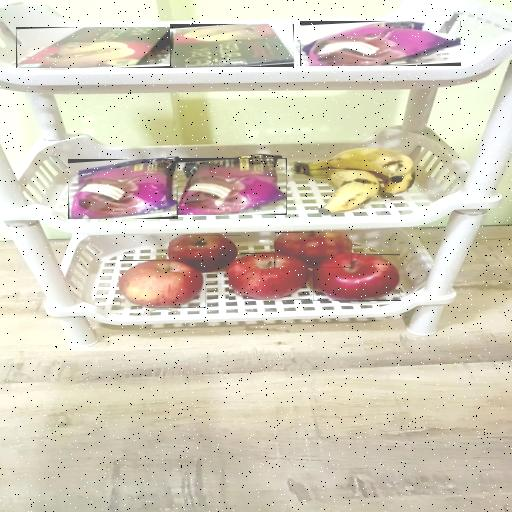Apple: (314, 254, 402, 301), (120, 260, 206, 308), (230, 253, 312, 300), (275, 232, 352, 268), (170, 235, 242, 273)
Choco Fills: (16, 28, 173, 70), (170, 24, 294, 67)
Choco Pie: (300, 21, 461, 66), (68, 159, 178, 219), (177, 158, 287, 215)
